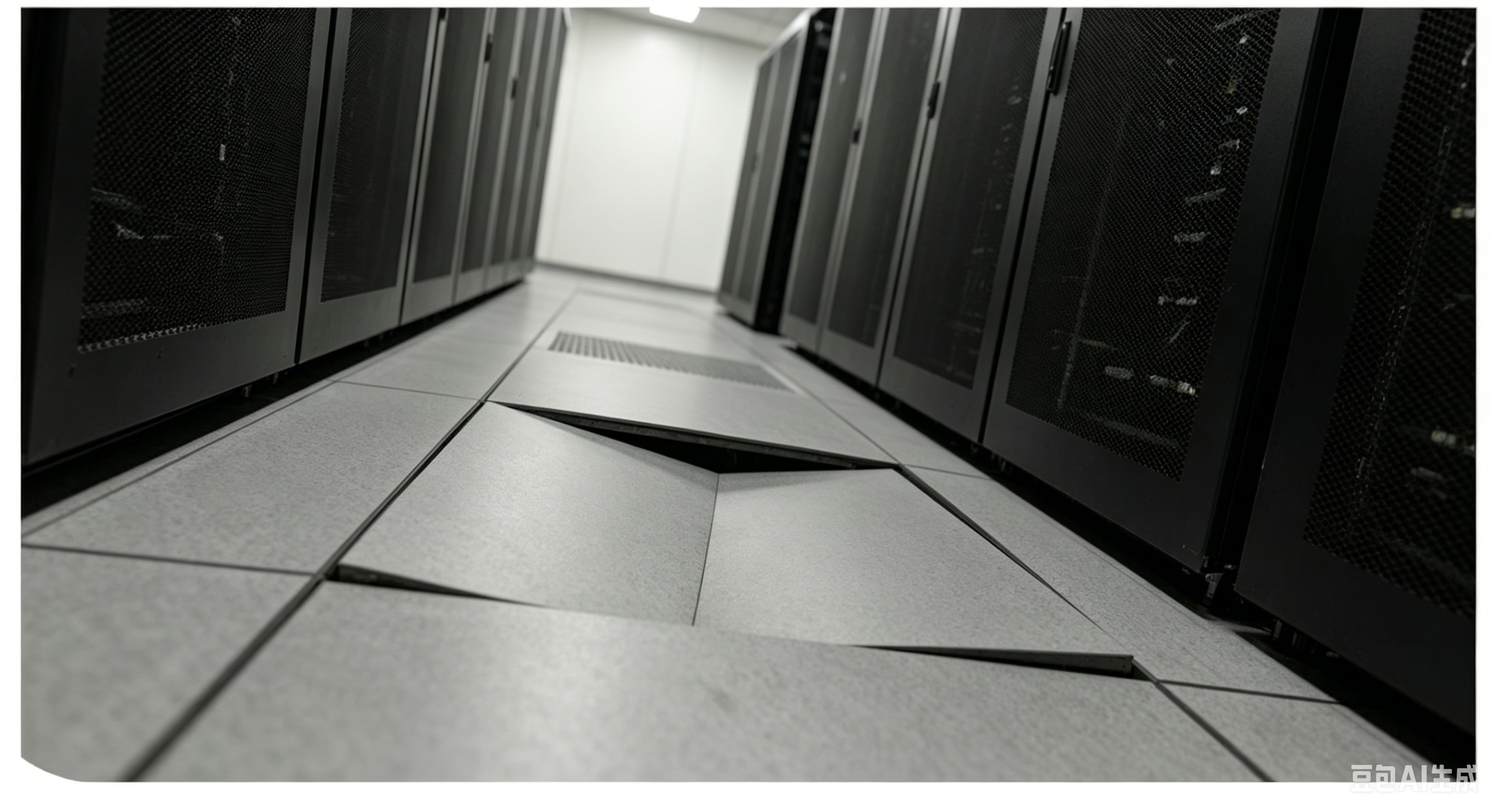floor_defect: (313, 386, 1152, 695)
